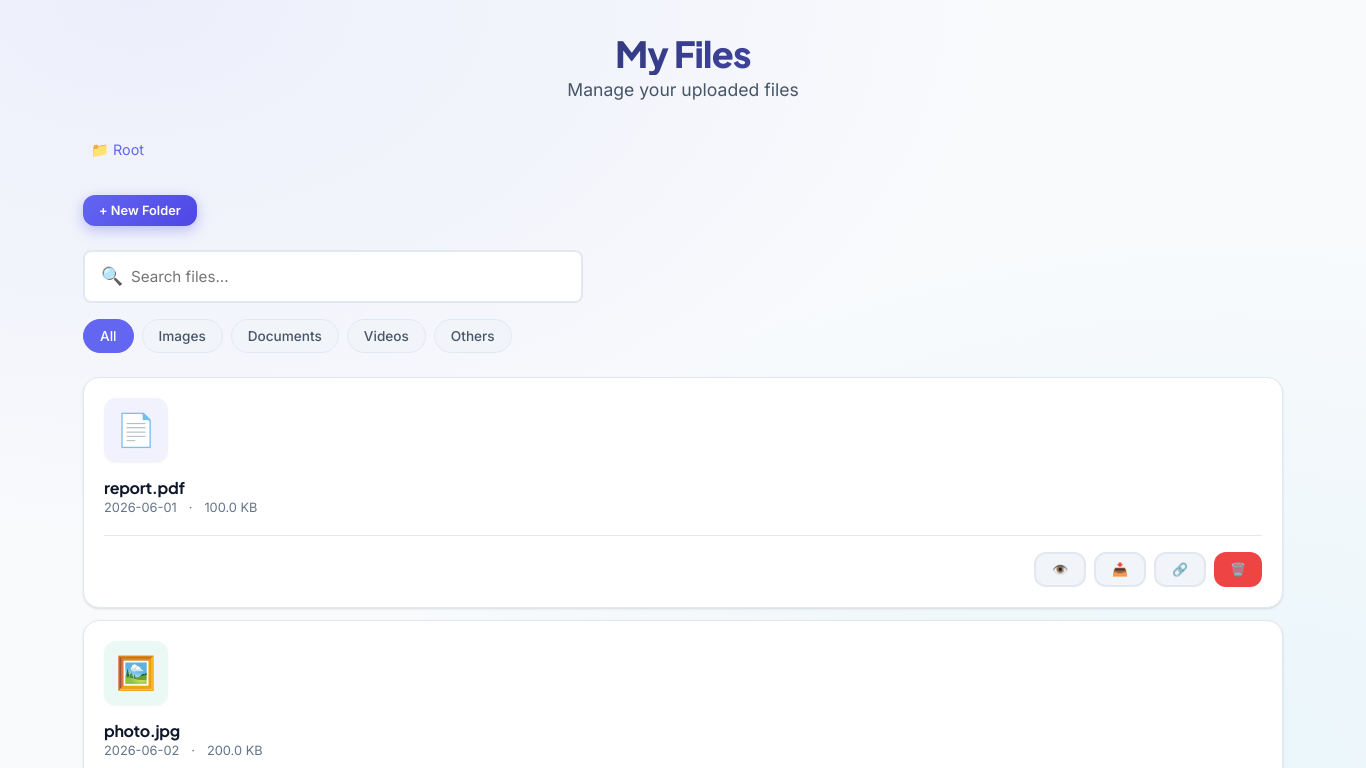
Test: MyFiles Component › shows new folder form on button click
Click the button "+ New Folder" at [140, 211], box left=83, top=195, right=197, bottom=226
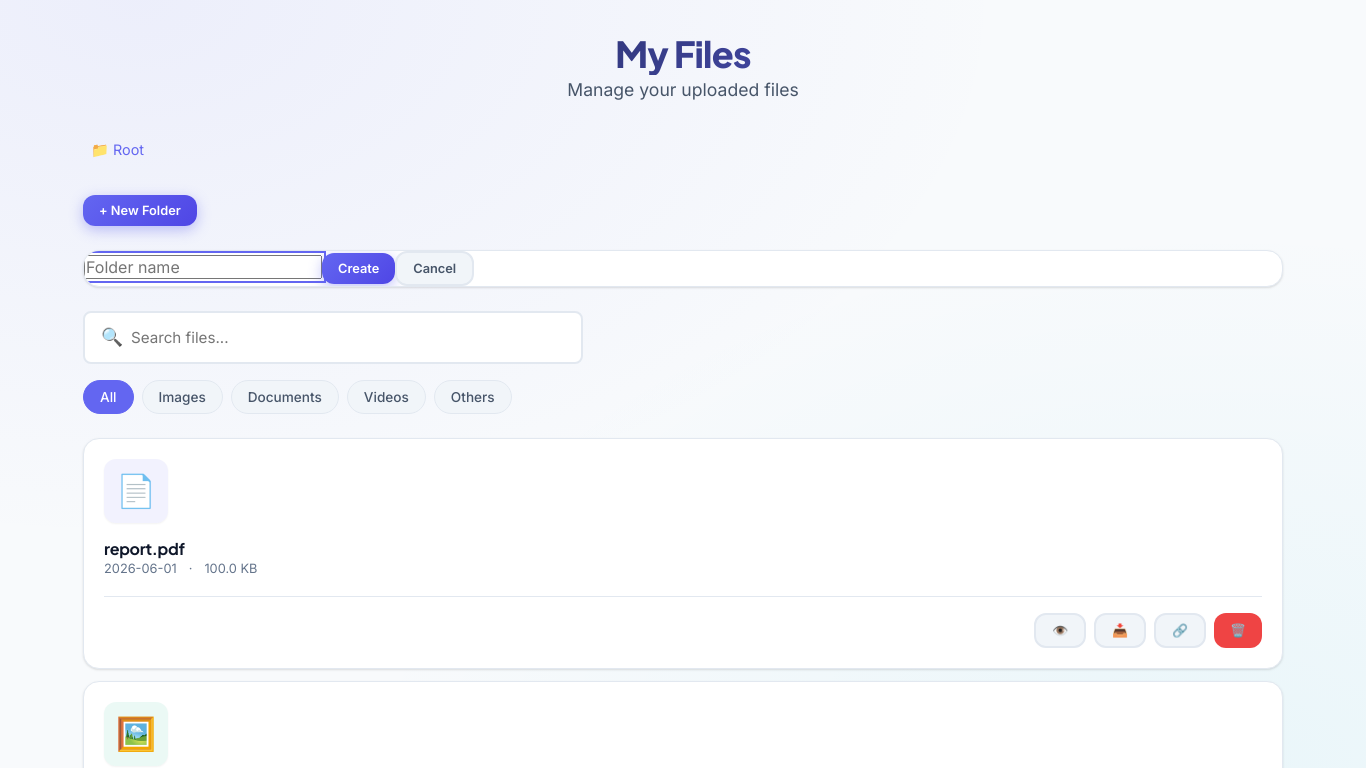
Expected: the field with placeholder "Folder name" is shown, left=84, top=255, right=322, bottom=279
